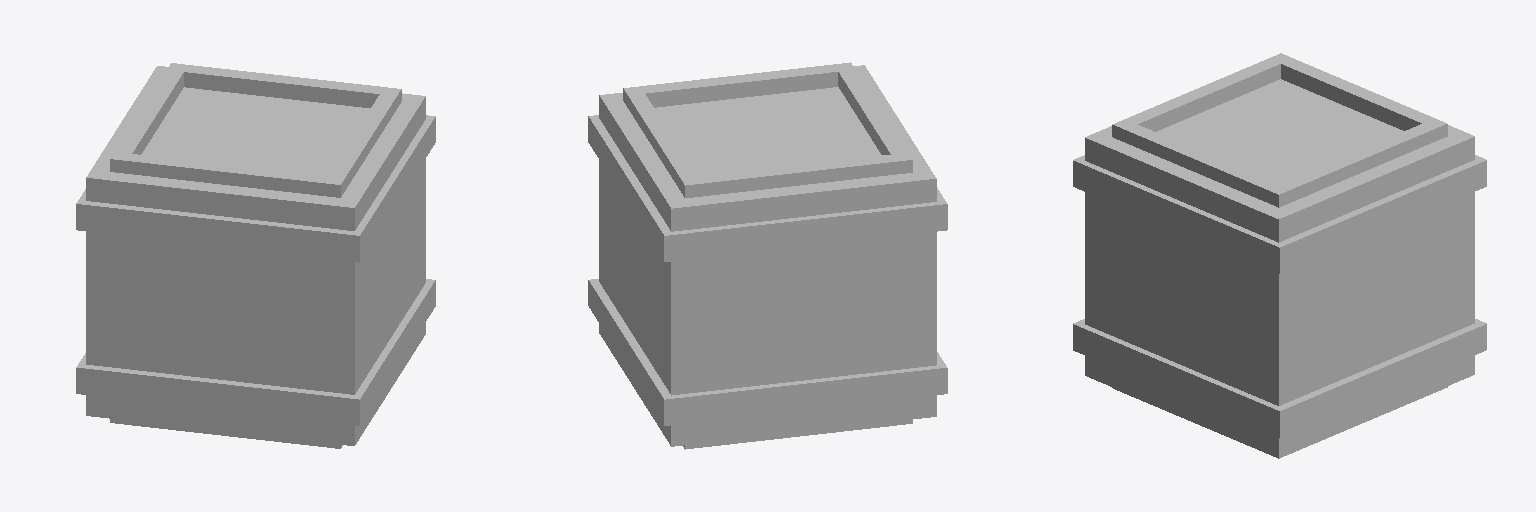
Rendered from square_barrel_angled.obj.
3 views of the same model, side by side, from view 1: azimuth 30°, elevation 25°; view 2: azimuth 150°, elevation 25°; view 3: azimuth 270°, elevation 25° (orthographic).
Visible parts, largest first — view 1: Square_Barrel.001_Cube.040; view 2: Square_Barrel.001_Cube.040; view 3: Square_Barrel.001_Cube.040.
Boxes of the visible parts, x1,y1,x2,y2 form: Square_Barrel.001_Cube.040: [76, 63, 435, 448]; Square_Barrel.001_Cube.040: [588, 62, 947, 449]; Square_Barrel.001_Cube.040: [1073, 53, 1486, 458].
Bounding box in the file's own units: 1.42 × 0.9973 × 1.42.